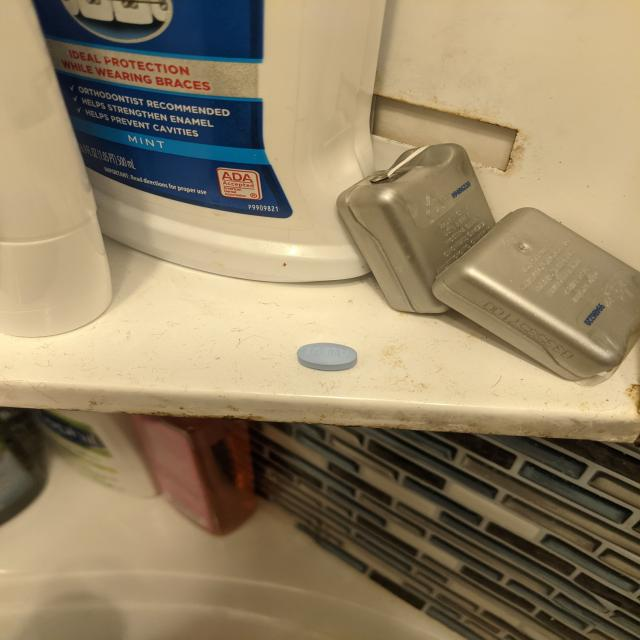non-organic waste: (296, 342, 358, 372)
